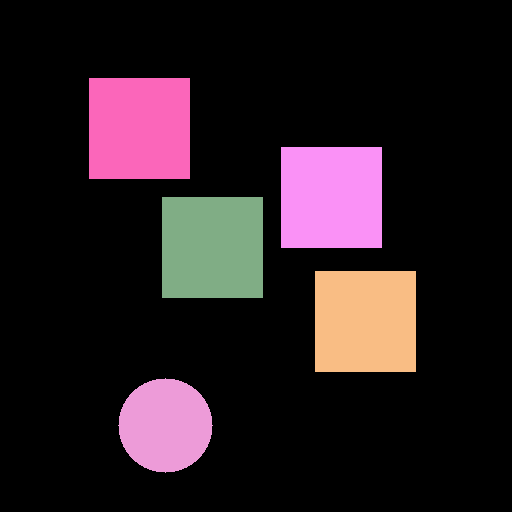circle: (118, 378, 212, 472)
square: (315, 271, 415, 371), (162, 197, 262, 297), (281, 147, 381, 247), (89, 78, 189, 178)
